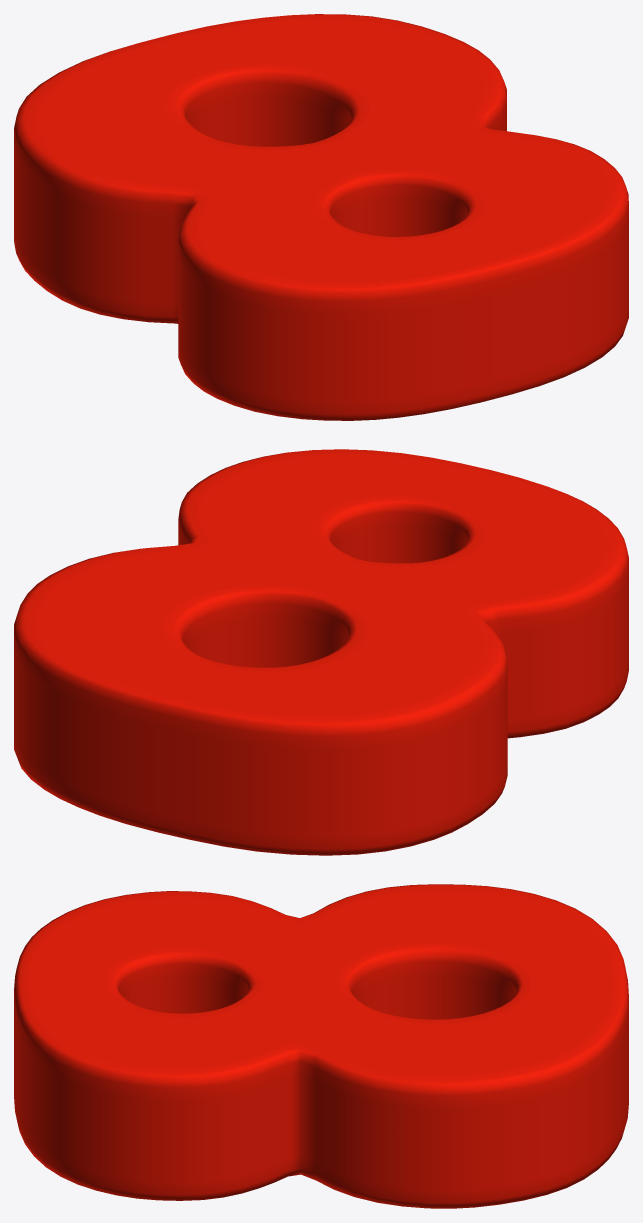
The picture shows the model from 3 angles, top to bottom: view 1: azimuth 30°, elevation 25°; view 2: azimuth 150°, elevation 25°; view 3: azimuth 270°, elevation 25°; orthographic projection. The views are drawn at different scales.
Visible parts, largest first — view 1: Eight_lambert1_0; view 2: Eight_lambert1_0; view 3: Eight_lambert1_0.
Boxes of the visible parts, x1=… form: Eight_lambert1_0: x1=14, y1=14, x2=628, y2=420; Eight_lambert1_0: x1=14, y1=449, x2=628, y2=855; Eight_lambert1_0: x1=14, y1=884, x2=628, y2=1208.
Bounding box in the file's own units: 1.74 × 0.5004 × 2.2.
